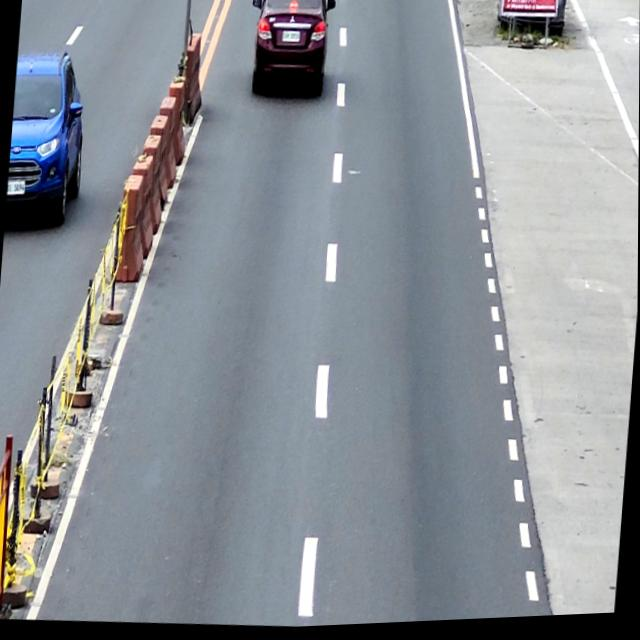Car: (5, 47, 92, 231), (244, 0, 338, 103)
License-Plate: (7, 179, 25, 195), (281, 33, 300, 46)
